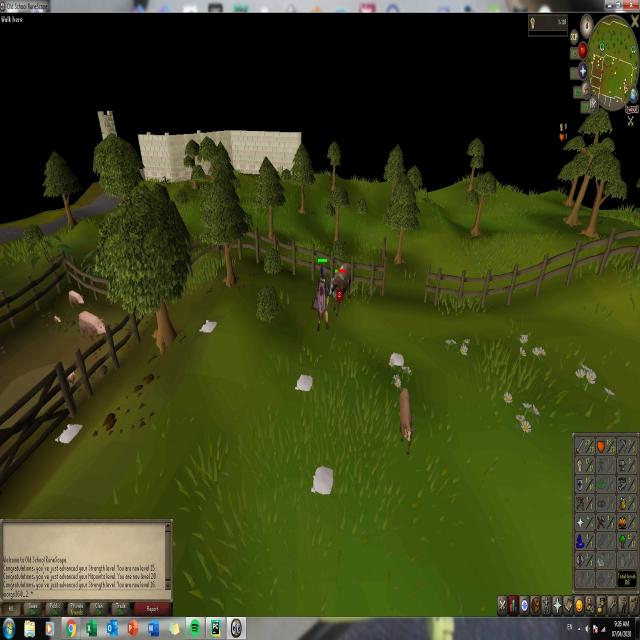cow: (327, 260, 352, 317), (398, 384, 414, 455)
player: (316, 264, 329, 332)
